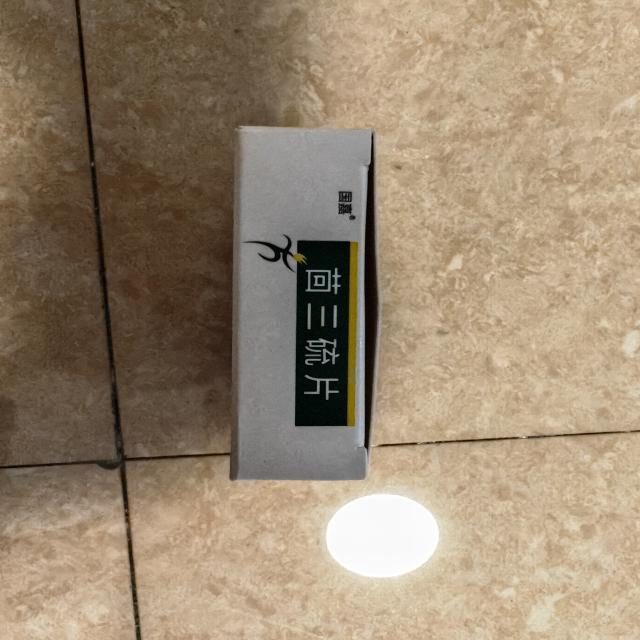box: (220, 116, 385, 500)
